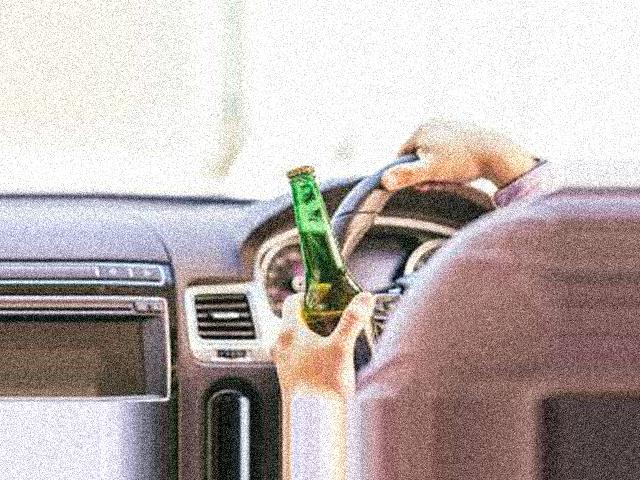beer: (285, 164, 377, 379)
